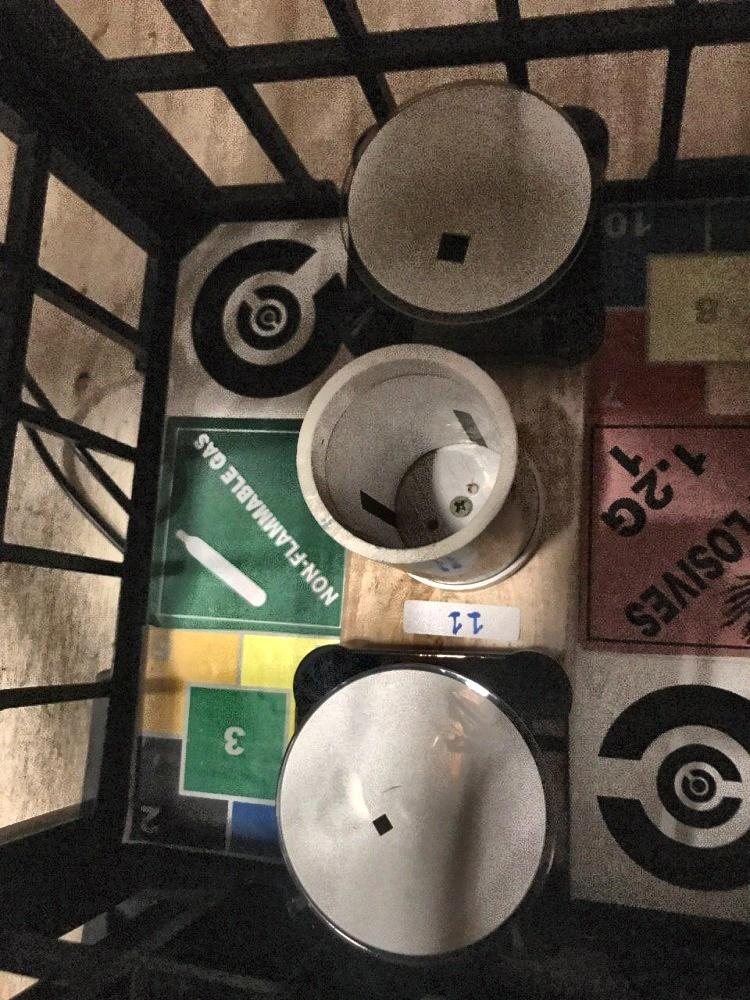explosive: (580, 417, 750, 661)
non-flammable-gas: (154, 418, 348, 635)
